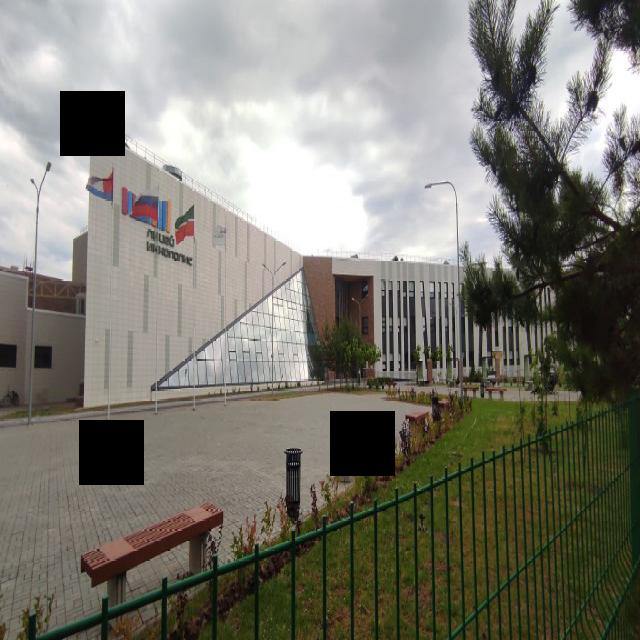Building: (0, 124, 551, 408)
